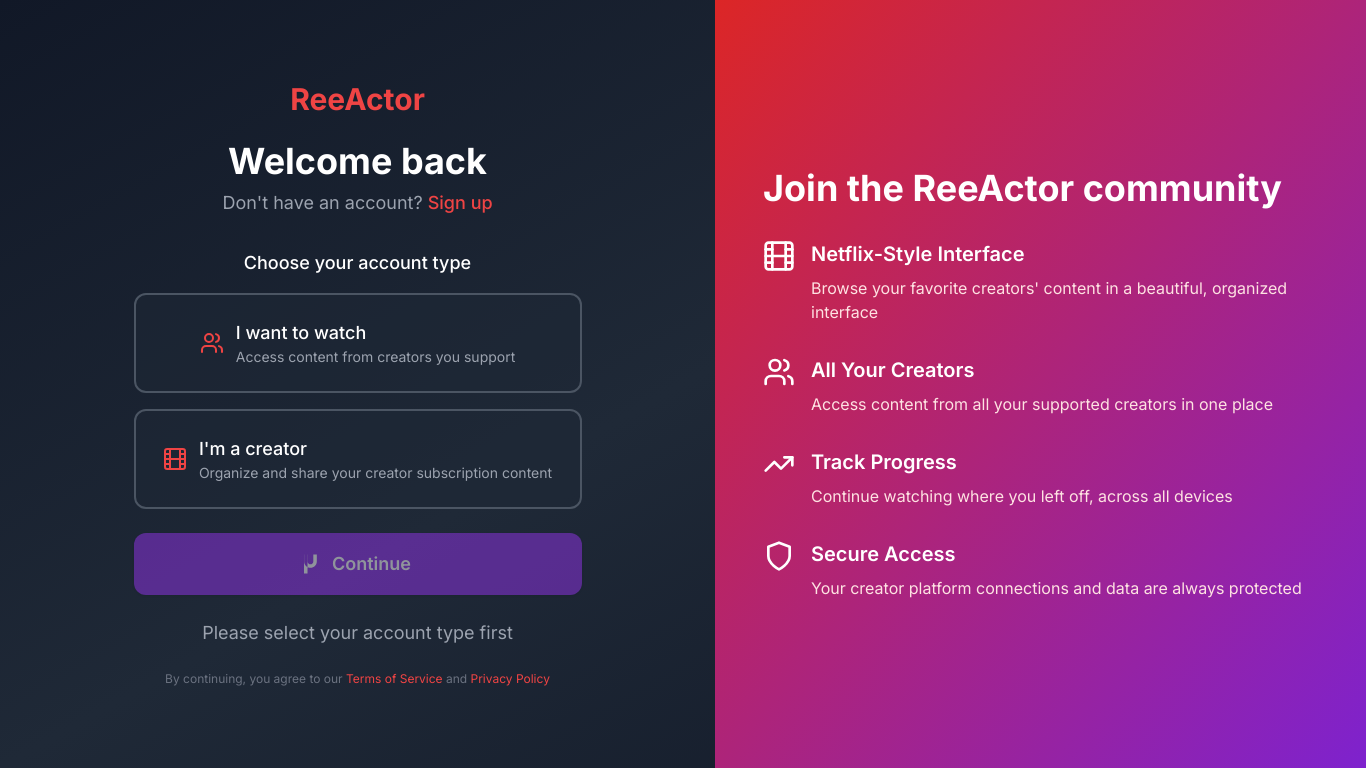
it: Creator Platform OAuth Login › should enable login button when creator type is selected
Click the heading "I'm a creator" at (253, 448), box [199,438,307,459]
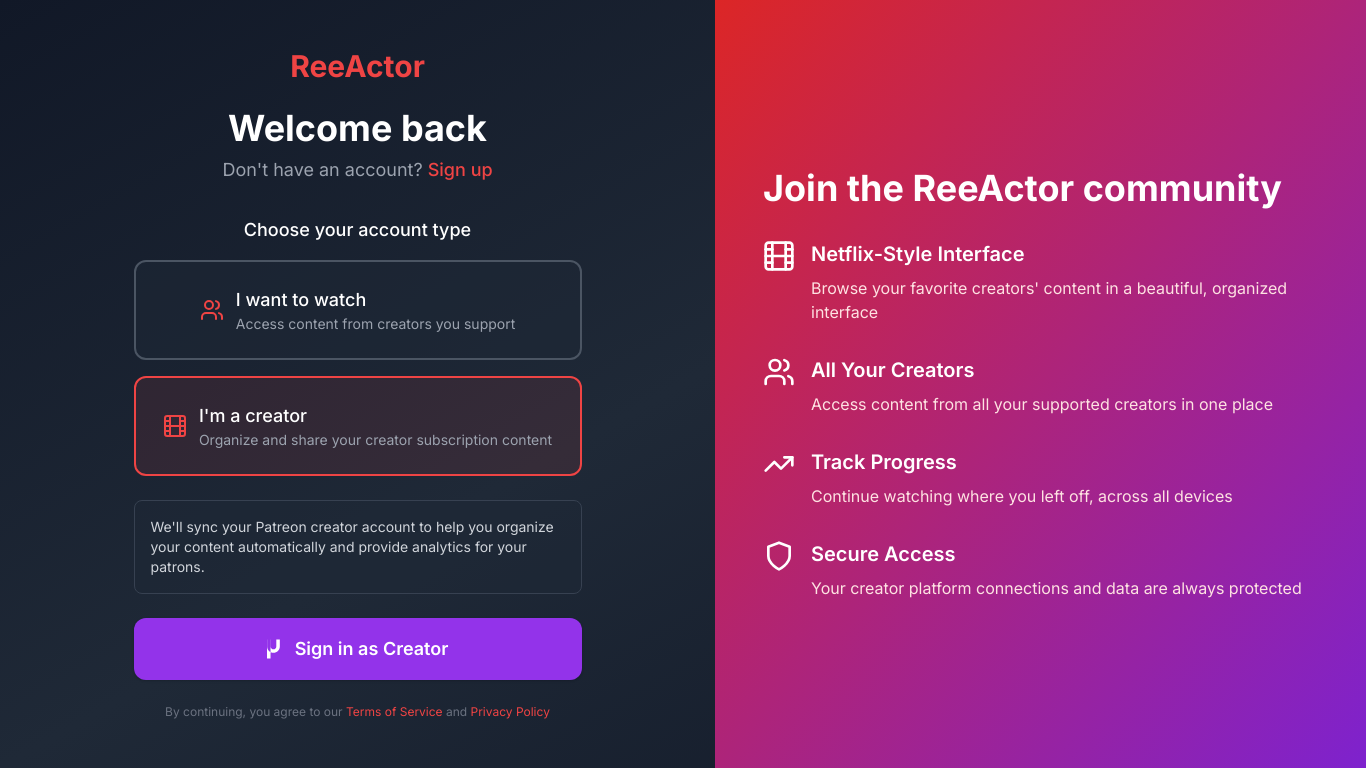
Check: the button "Sign in as Creator" is enabled, box [134,618,582,680]
